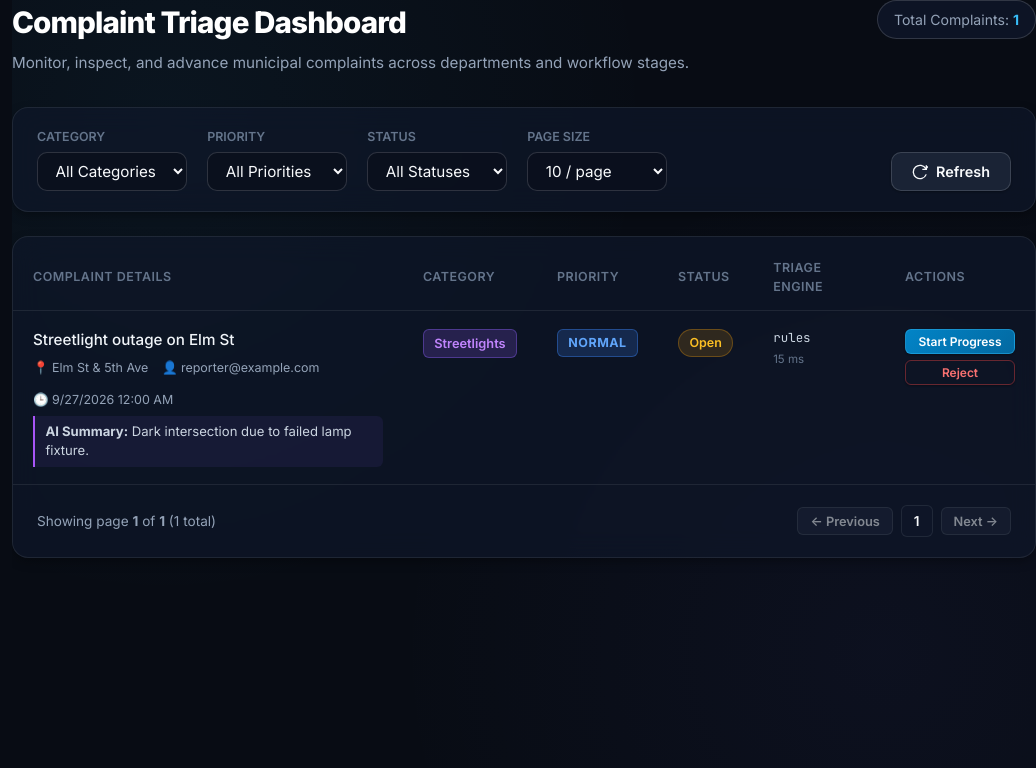
Scenario: DashboardPage Component › advances complaint status successfully via PATCH
Click the button "Start Progress". click: click(960, 341)
box: [905,329,1015,354]
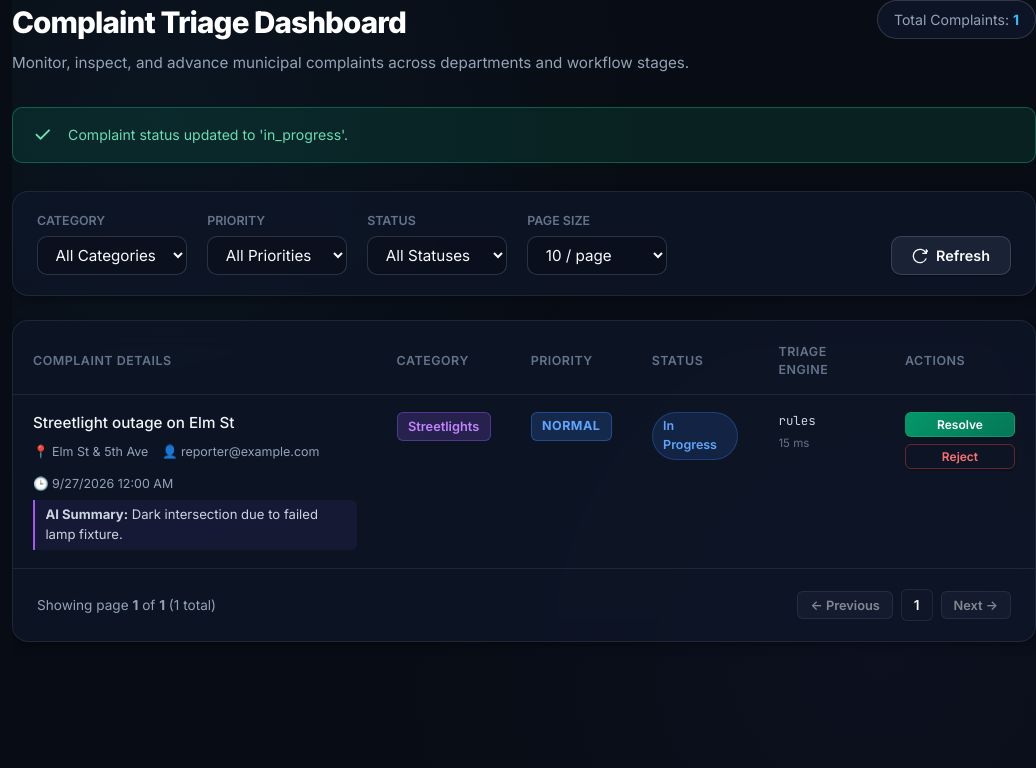
Expected: the text "Complaint status updated to 'in_progress'." is shown, [68,124,348,145]
